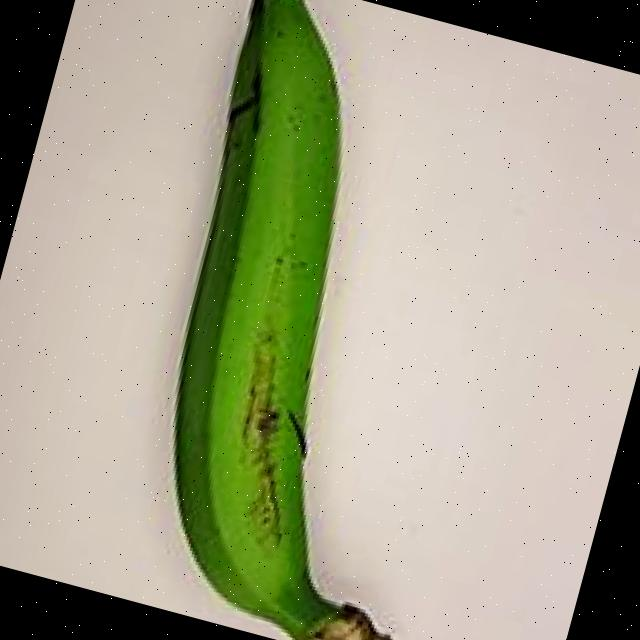Raw: (30, 0, 567, 640)
